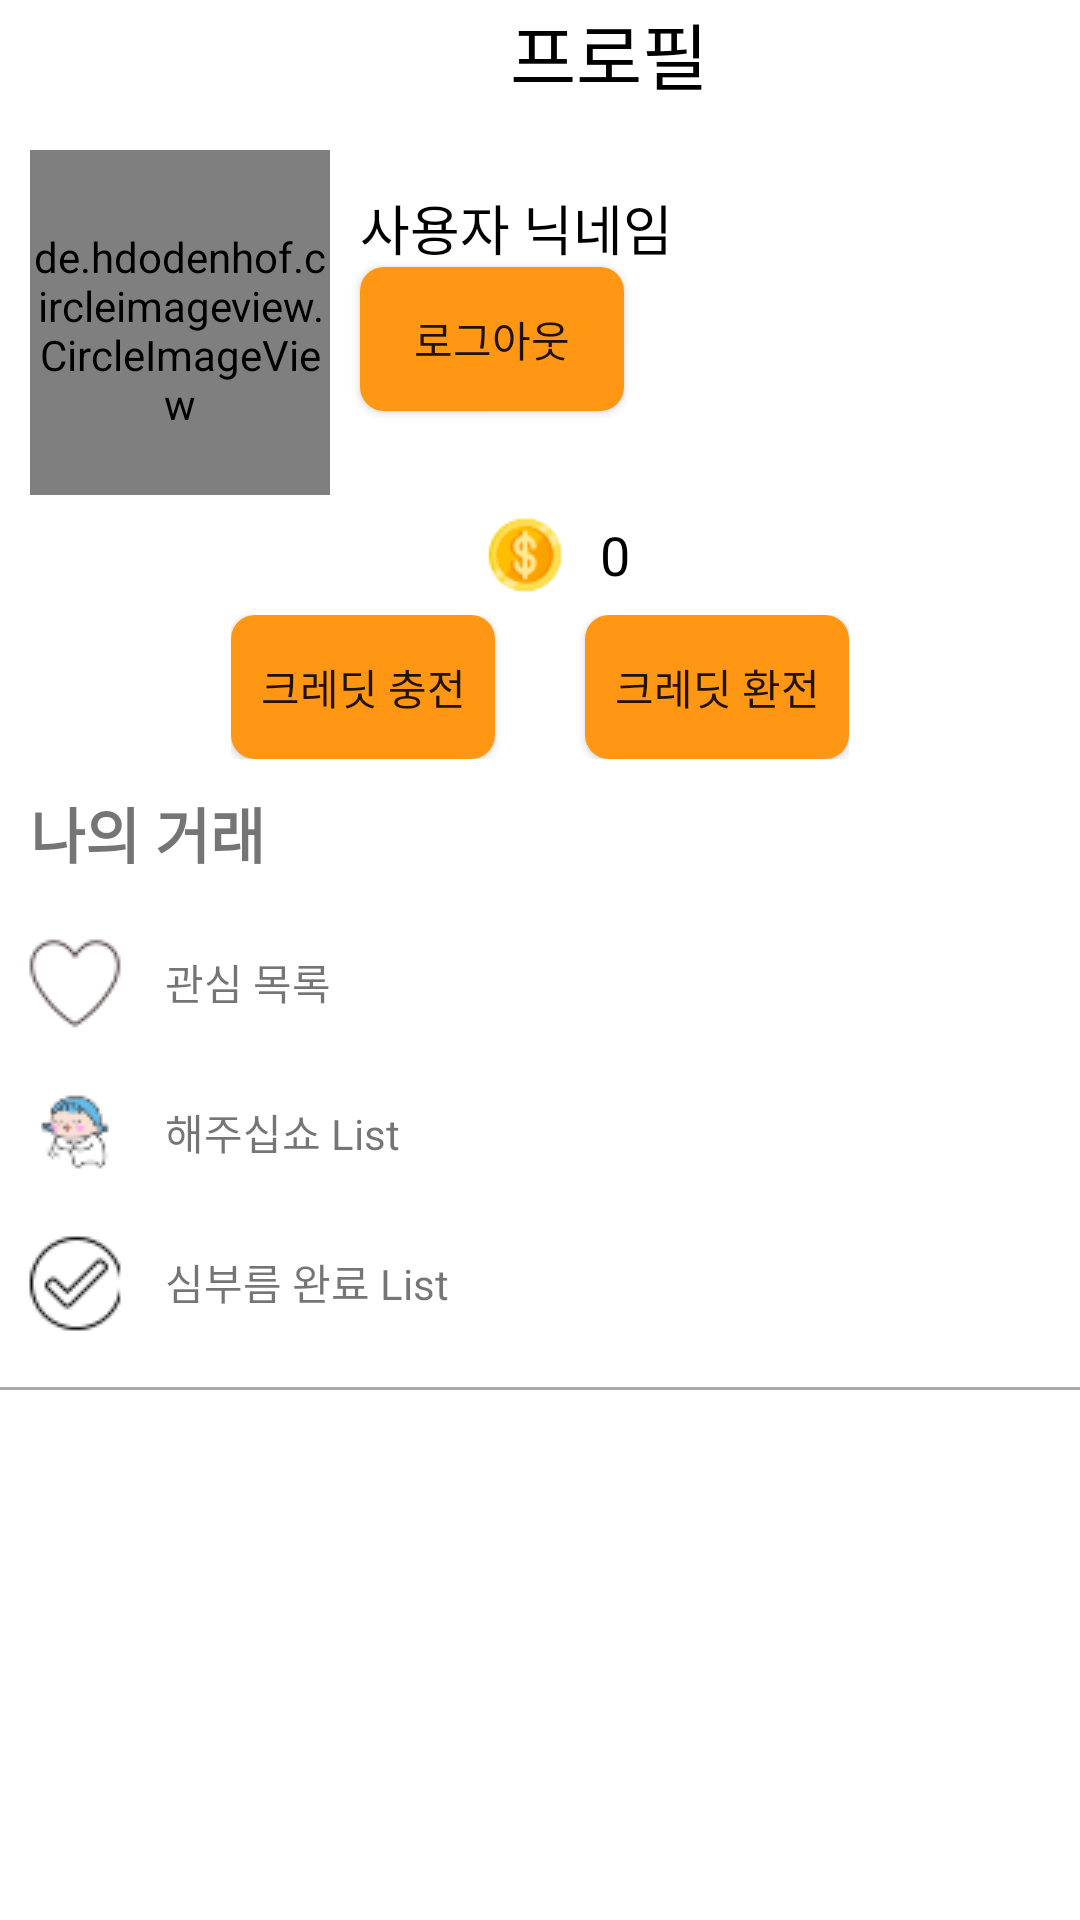

Icons on this 1080*1920 Android screen, each with its box as (x1, y1, x2, y2):
coin: (488, 518, 562, 592)
heart: (29, 939, 121, 1028)
success: (29, 1236, 121, 1331)
